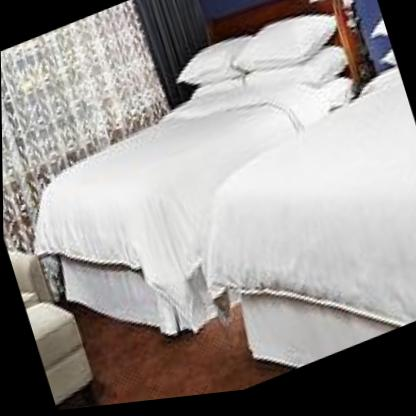Bed: (16, 0, 384, 290)
